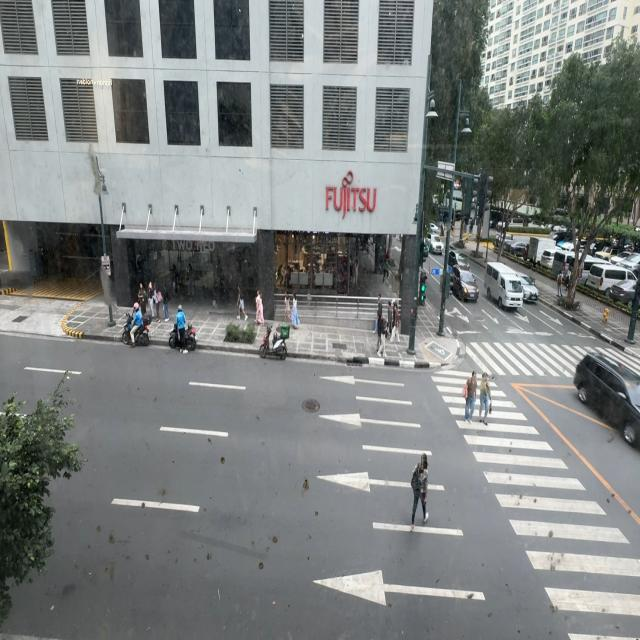crossing: (463, 367, 478, 425), (479, 369, 491, 424)
jaywalking: (413, 454, 432, 529)
pedestrain: (389, 302, 401, 345), (376, 293, 386, 335), (290, 294, 300, 328), (255, 290, 264, 326), (283, 291, 291, 321), (556, 269, 564, 299)
